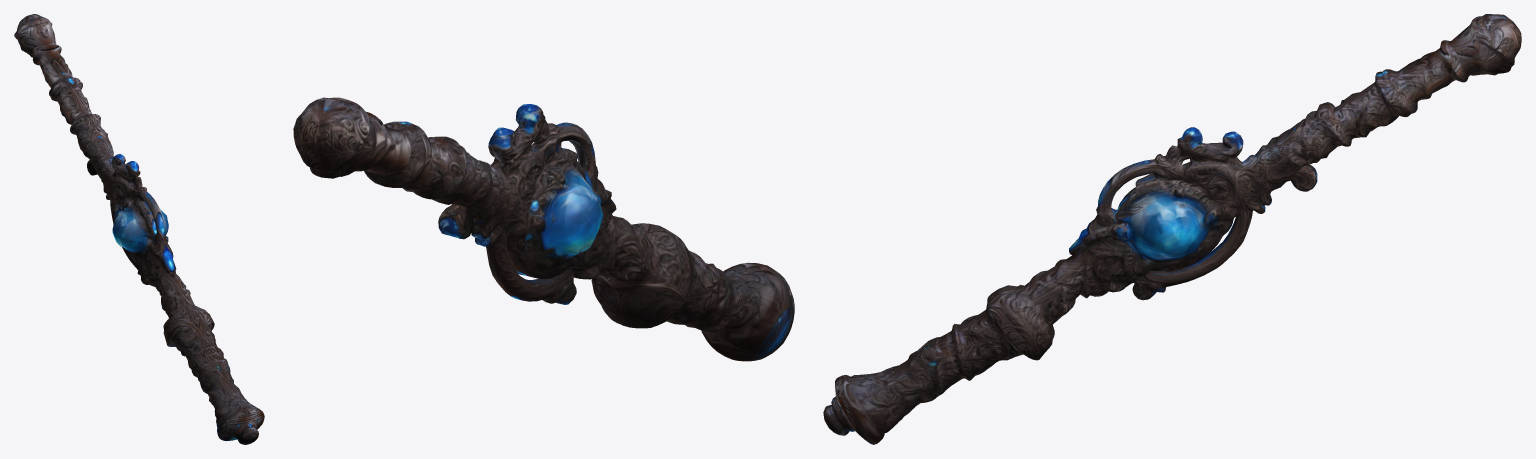
3 views of the same model, side by side, from view 1: azimuth 30°, elevation 25°; view 2: azimuth 150°, elevation 25°; view 3: azimuth 270°, elevation 25° (orthographic). The views are drawn at different scales.
Parts seen in each view (by area): view 1: Mesh1.0; view 2: Mesh1.0; view 3: Mesh1.0.
Part boxes in pixels (x1,y1,x2,y2): Mesh1.0: (14, 14, 264, 444); Mesh1.0: (293, 97, 794, 361); Mesh1.0: (823, 14, 1521, 444).
Bounding box in the file's own units: 26.08 × 134 × 200.
1 material, 1 textured.
